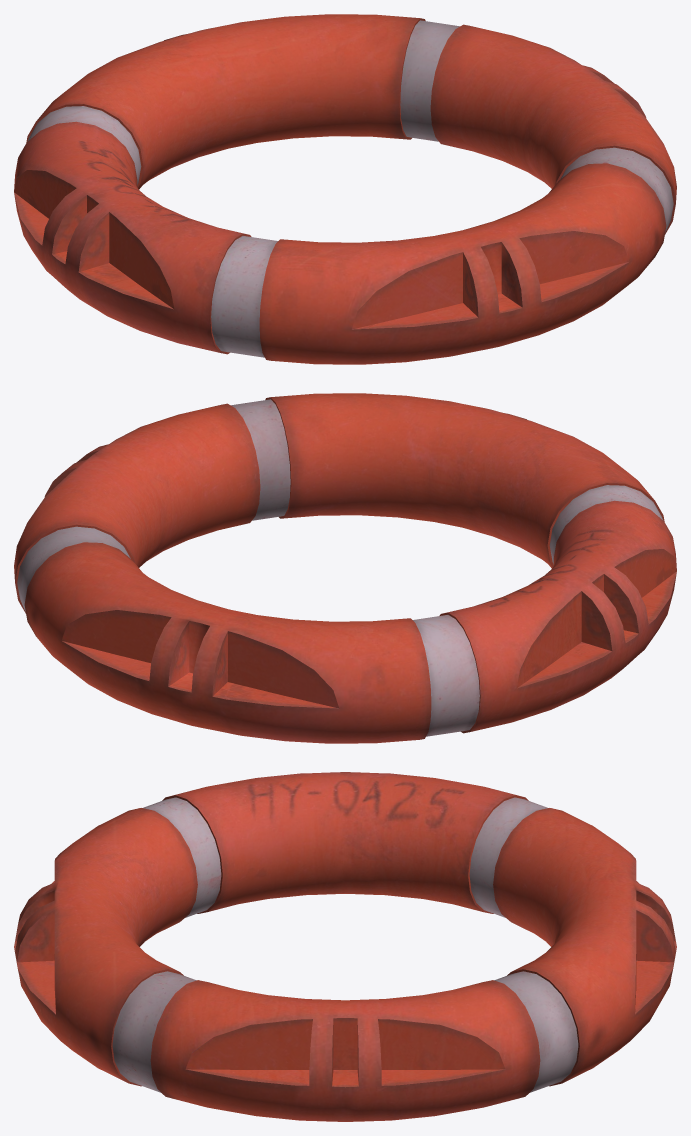
Rendered from lifebuoy.fbx.
3 views of the same model, one above another, from view 1: azimuth 30°, elevation 25°; view 2: azimuth 150°, elevation 25°; view 3: azimuth 270°, elevation 25° (orthographic).
Visible parts, largest first — view 1: lifebuoy; view 2: lifebuoy; view 3: lifebuoy.
Boxes of the visible parts, x1,y1,x2,y2 form: lifebuoy: (14, 14, 676, 364); lifebuoy: (14, 393, 676, 743); lifebuoy: (14, 772, 676, 1121).
Size of the model in its own units: 62.03 by 11.49 by 62.03.
